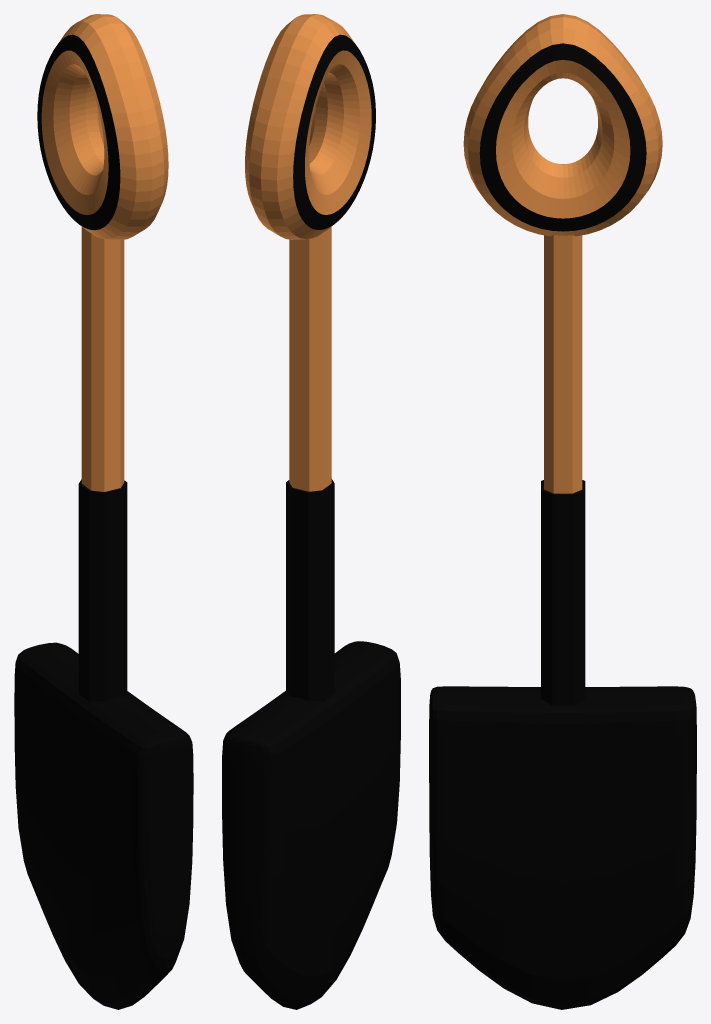
File: Shovel.fbx
The picture shows the model from 3 angles, left to right: view 1: azimuth 30°, elevation 25°; view 2: azimuth 150°, elevation 25°; view 3: azimuth 270°, elevation 25°; orthographic projection.
Parts seen in each view (by area): view 1: Cube.097; view 2: Cube.097; view 3: Cube.097.
Boxes of the visible parts, bbox=[...] form: Cube.097: bbox=[14, 14, 193, 1009]; Cube.097: bbox=[222, 14, 400, 1009]; Cube.097: bbox=[429, 14, 696, 1009].
Bounding box in the file's own units: 50 × 814 × 199.
